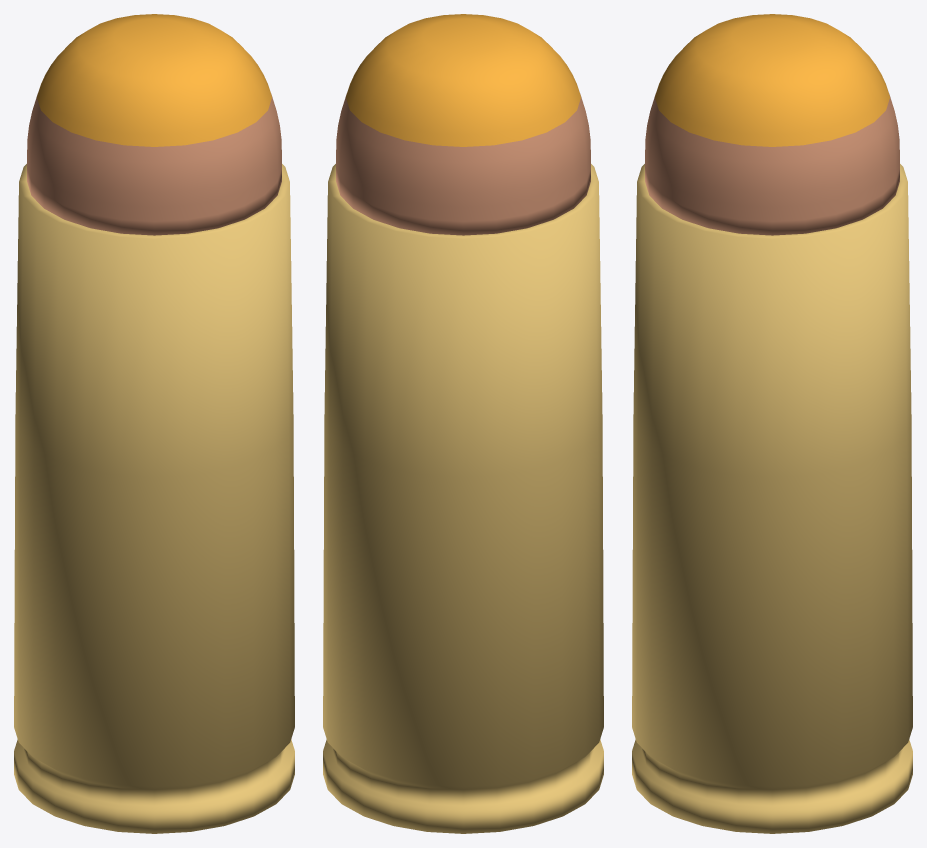
3 renders of one model, left to right at view 1: azimuth 30°, elevation 25°; view 2: azimuth 150°, elevation 25°; view 3: azimuth 270°, elevation 25°, orthographic.
Parts seen in each view (by area): view 1: vaina, punta, bala_cuerpo; view 2: vaina, punta, bala_cuerpo; view 3: vaina, punta, bala_cuerpo.
Part boxes in pixels (x1,y1,x2,y2): vaina: (14, 164, 294, 833); punta: (37, 14, 271, 146); bala_cuerpo: (27, 93, 281, 235); vaina: (323, 164, 603, 833); punta: (346, 14, 580, 146); bala_cuerpo: (336, 93, 590, 235); vaina: (632, 164, 912, 833); punta: (655, 14, 889, 146); bala_cuerpo: (645, 93, 899, 235).
Size of the model in its own units: 0.014 by 0.0406 by 0.014.
